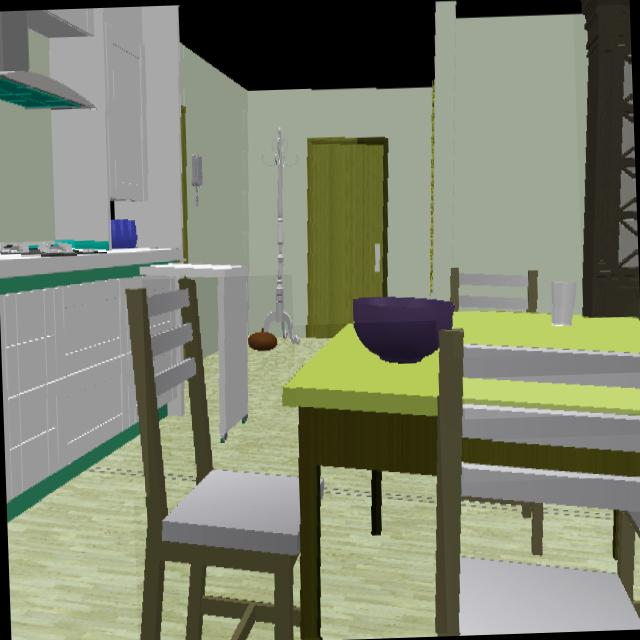bookshelf: (582, 0, 638, 316)
cabinet: (0, 278, 142, 501), (105, 7, 146, 200)
chair: (127, 278, 300, 640), (438, 330, 640, 632)
stove: (0, 242, 74, 254)
table: (283, 324, 438, 637), (453, 311, 640, 352), (463, 441, 640, 476), (464, 379, 640, 413)
